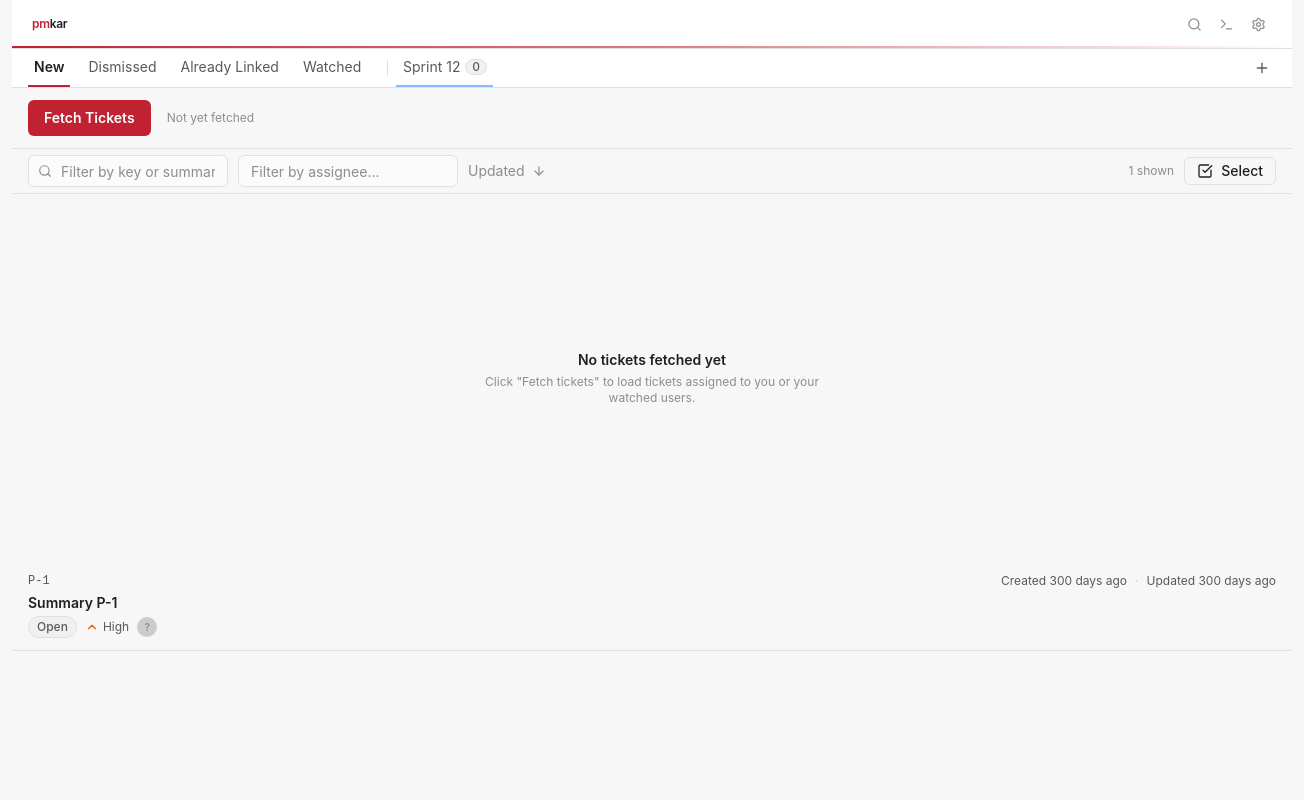
Test: App › group tabs › Watched tab renders the Watched page empty state
Check: the button "New" is shown, box [28, 49, 70, 87]
Click the button "Watched" at coordinates (332, 68), box [297, 49, 367, 87]
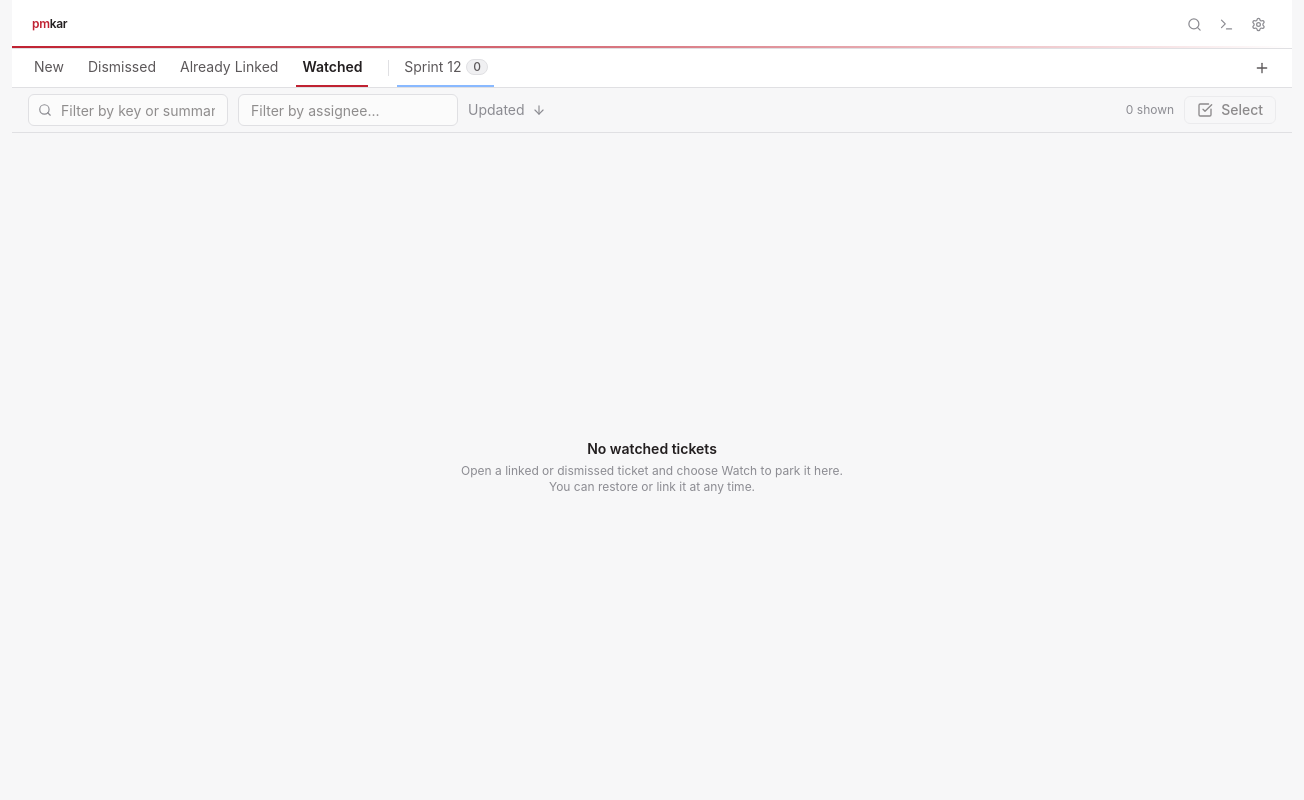
Check: the text "No watched tickets" is shown, box [587, 438, 717, 458]
